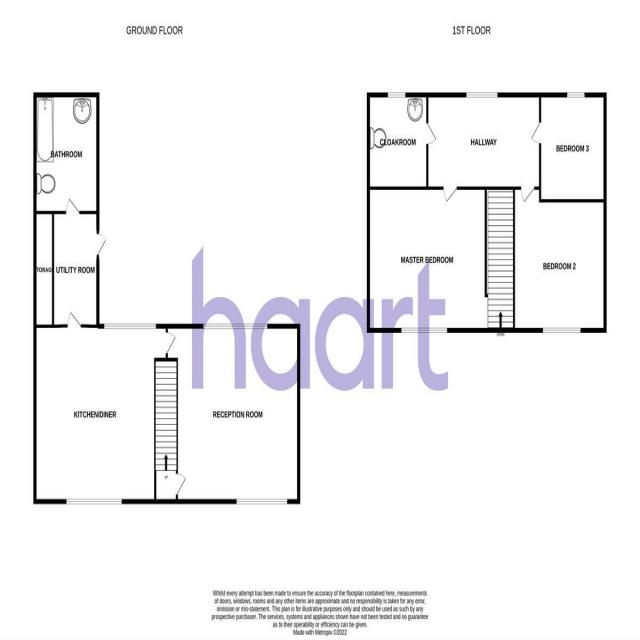DOOR: (441, 186, 461, 205), (176, 470, 188, 501), (63, 196, 81, 215), (519, 186, 538, 204), (65, 308, 82, 328), (165, 330, 177, 358), (530, 118, 542, 146), (425, 119, 437, 146), (96, 232, 108, 258)
ROOM: (32, 305, 177, 505), (165, 323, 300, 505), (366, 187, 488, 333), (513, 187, 607, 333), (528, 92, 607, 203)
WINDOW: (64, 495, 123, 507), (235, 494, 289, 507), (202, 321, 269, 331), (103, 321, 157, 332), (400, 325, 448, 335), (542, 325, 582, 335), (466, 89, 499, 100), (387, 91, 406, 100), (566, 91, 585, 99)
